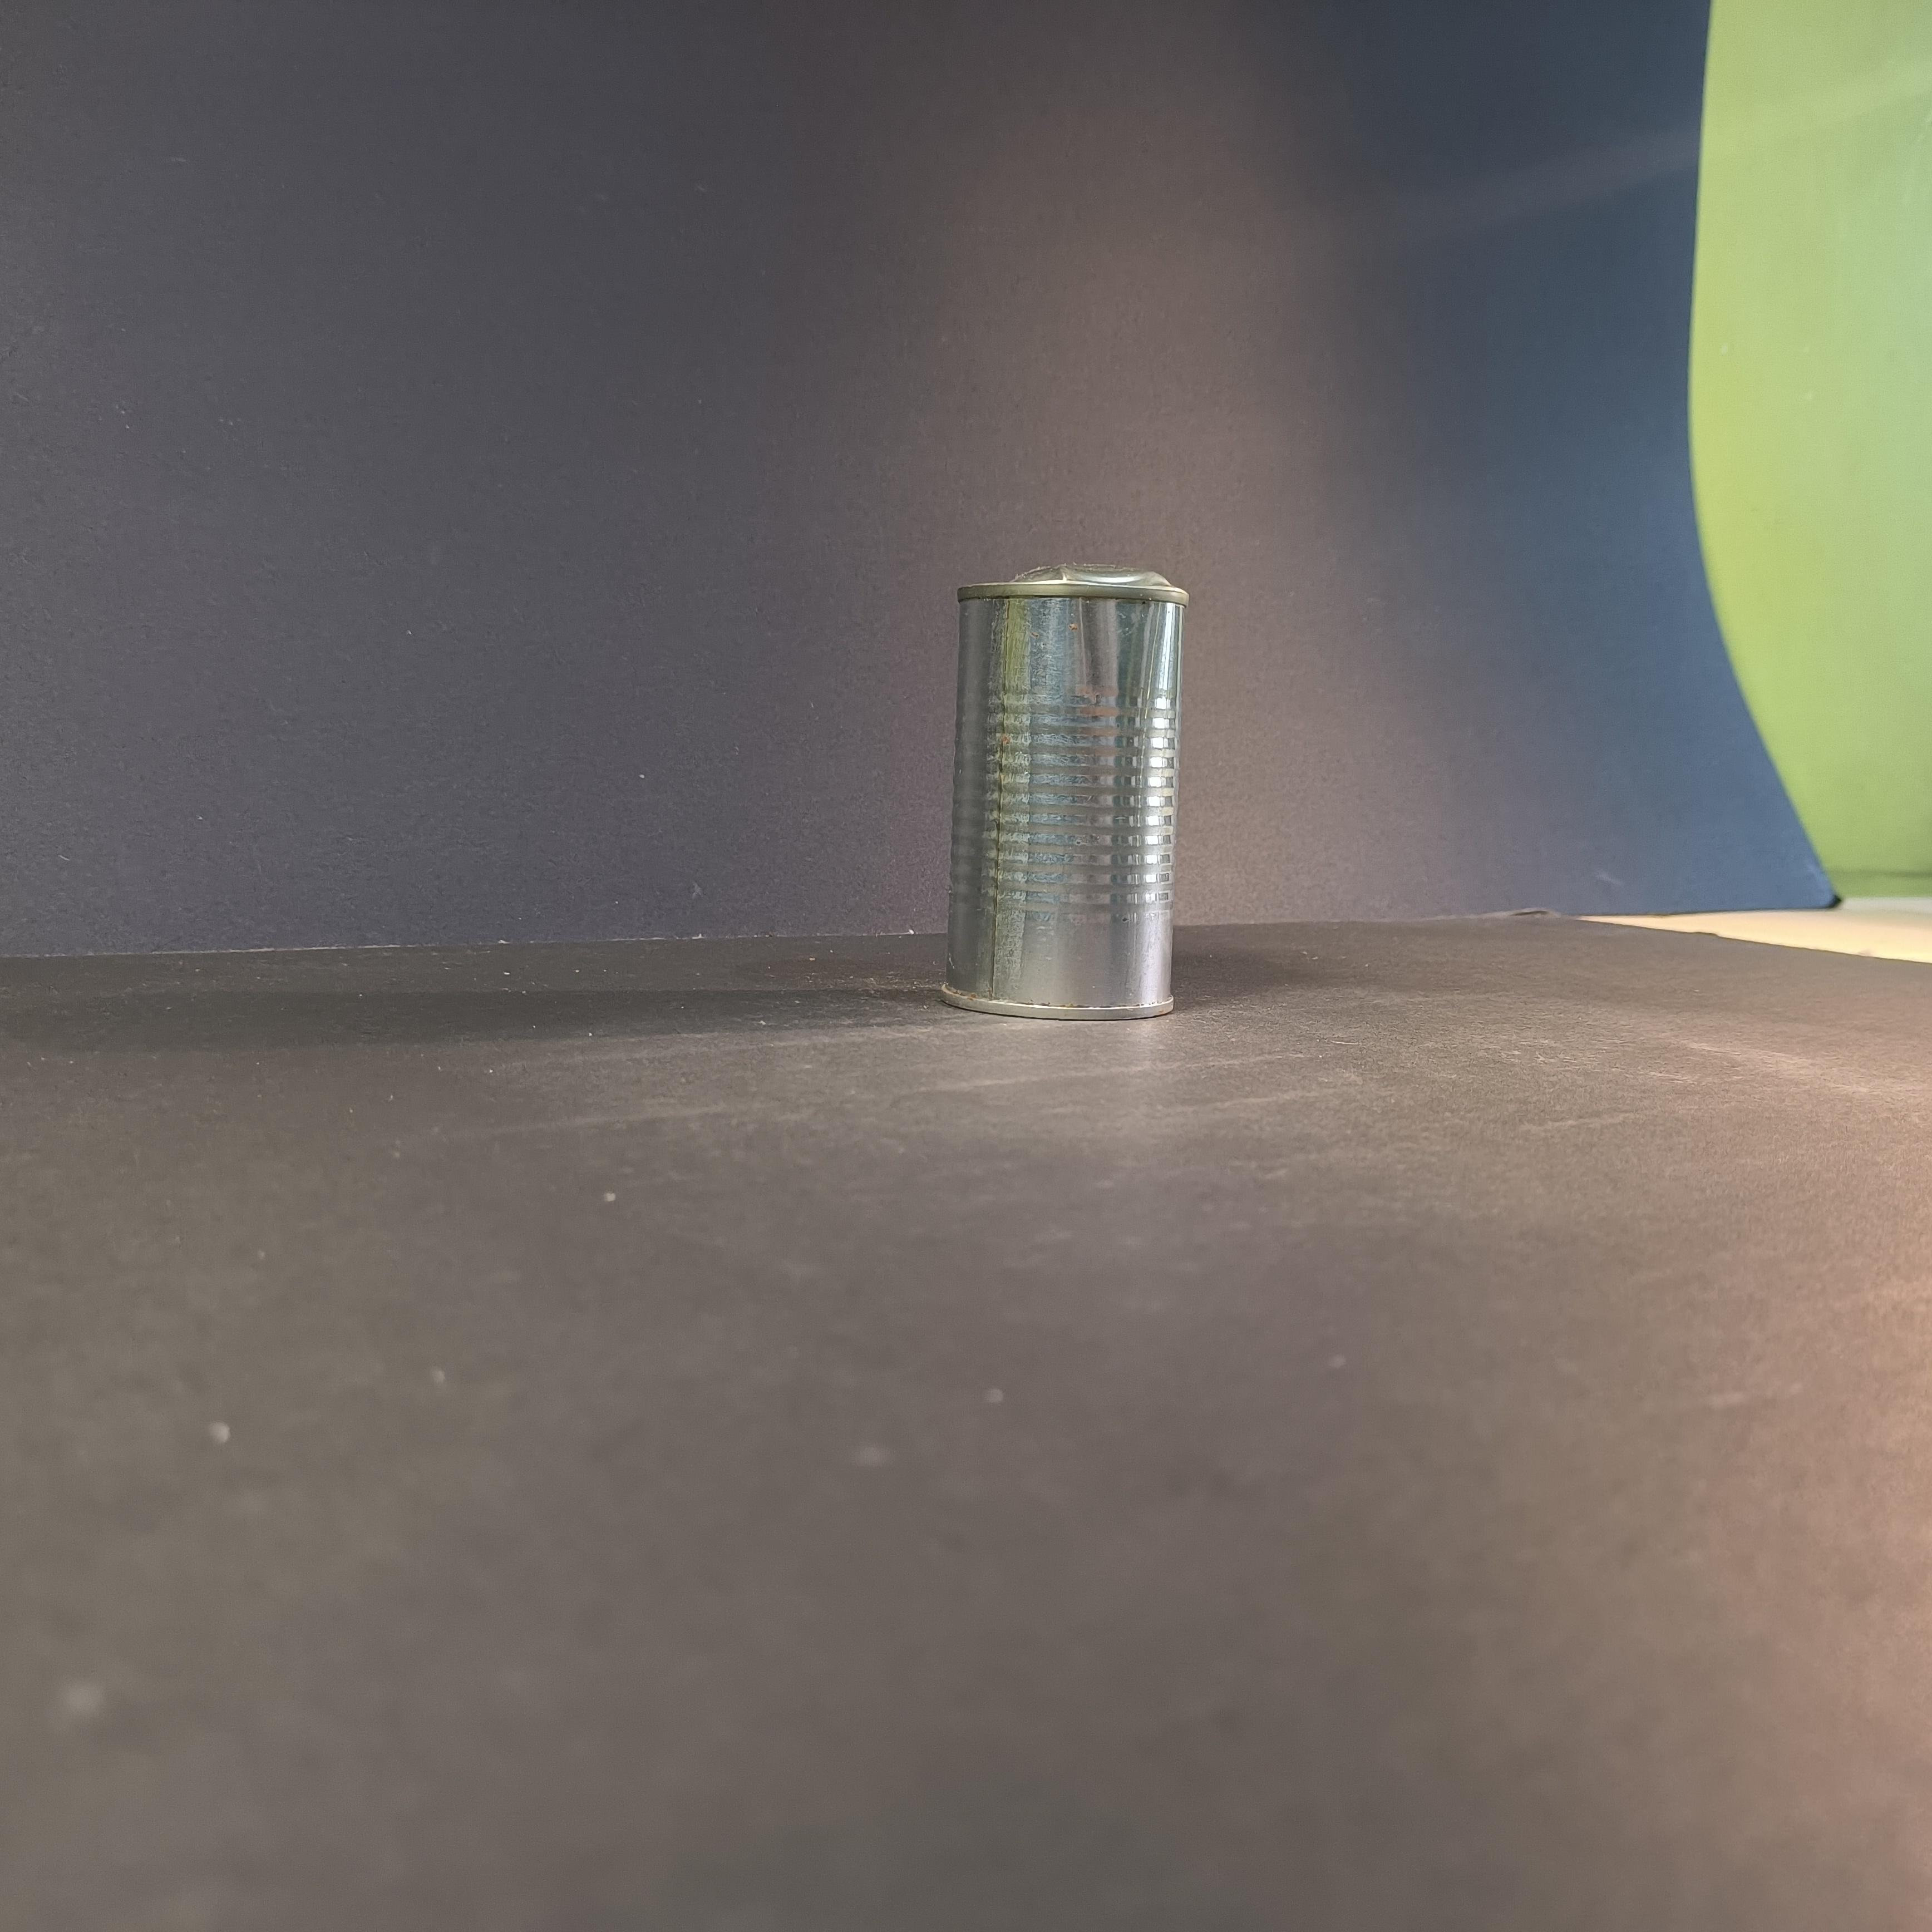Critical Defect: (939, 564, 1189, 1019)
